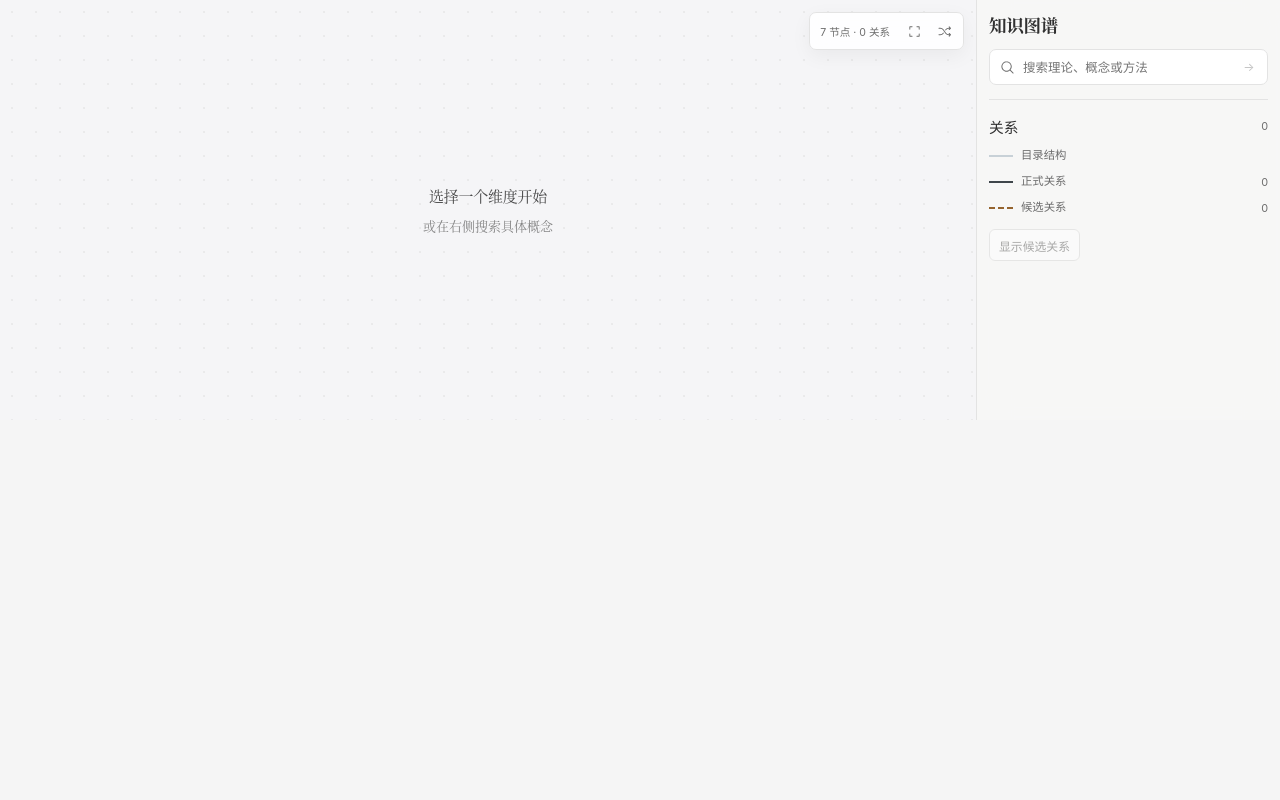
Test: searches a real entry and builds a bounded structural and reviewed neighborhood
Expected: the button named "适应画布" is shown, 900,17 -> 928,45
Expected: the button named "重新布局" is shown, 930,17 -> 958,45
Type "社会" into the search field named "搜索真实条目". click: (1126, 67)
box: 1023,60 -> 1229,74
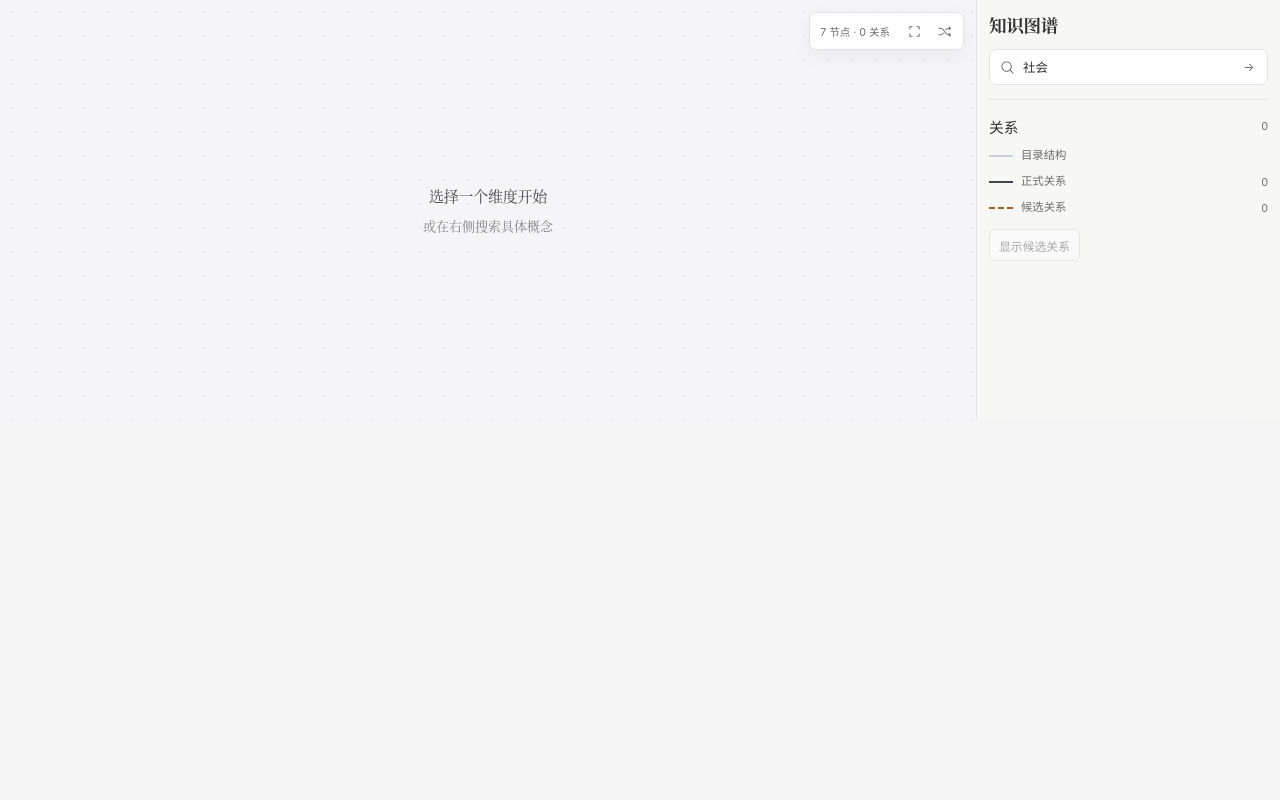
Click the button named "搜索". click: (1249, 67)
box: 1236,54 -> 1262,80
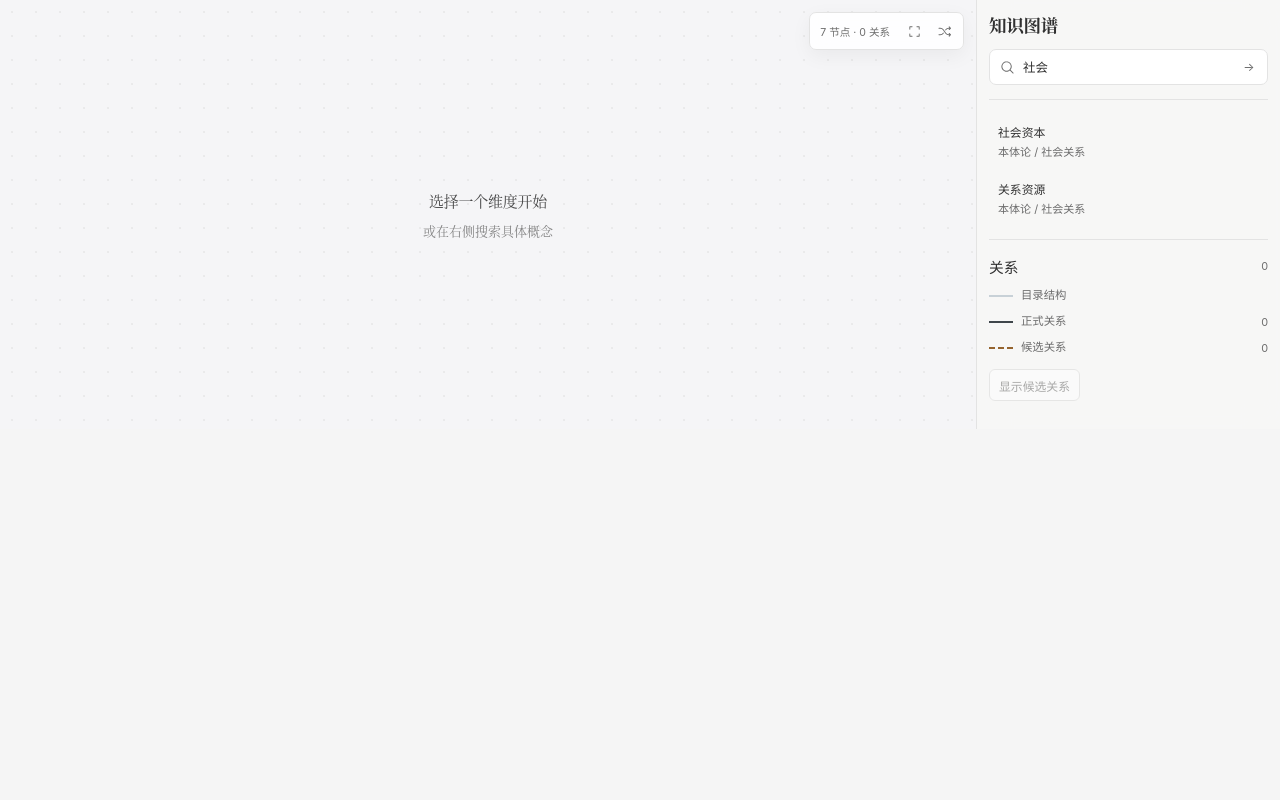
Click the button "社会资本 本体论 / 社会关系". click: (1022, 133)
box: 989,114 -> 1268,168
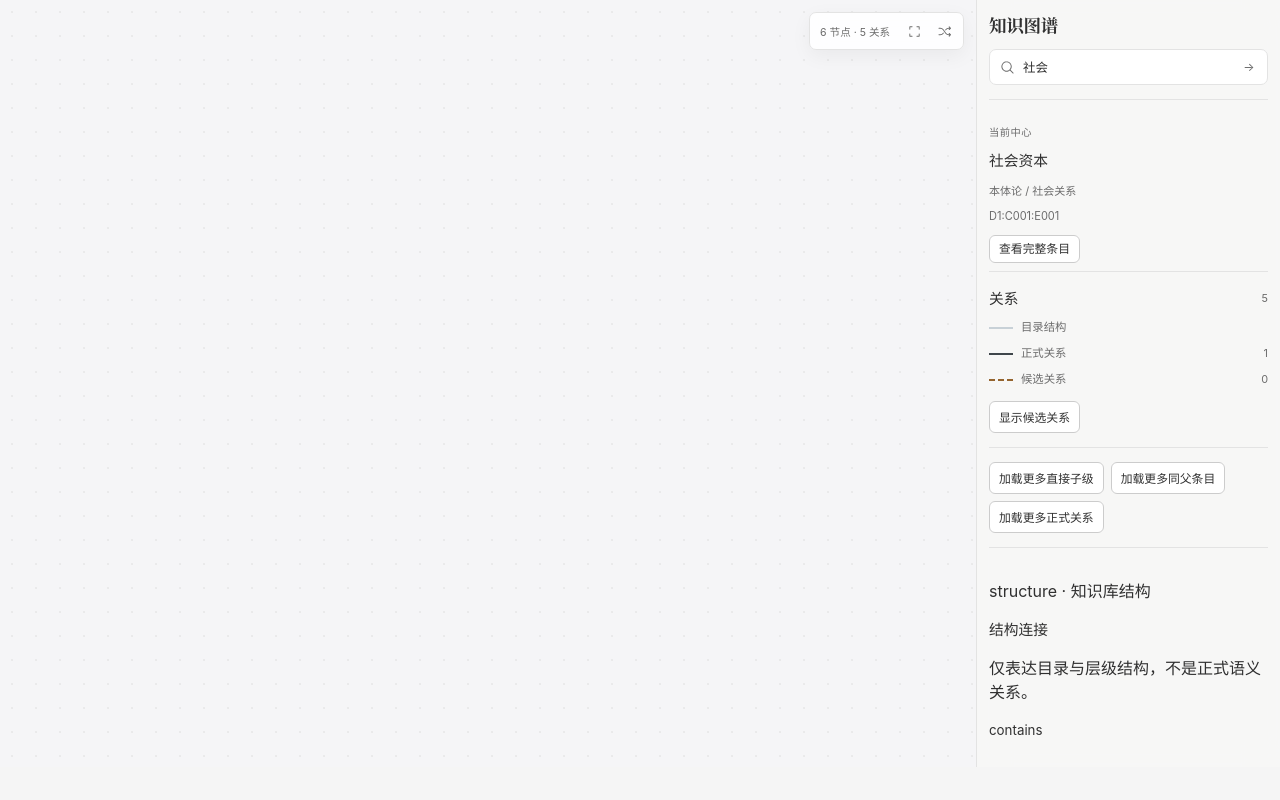
Result: the heading "社会资本" is shown at 989,152 -> 1048,170
Result: the text "本体论 / 社会关系" is shown at 989,184 -> 1076,198
Result: the button "加载更多直接子级" is shown at 989,462 -> 1104,494
